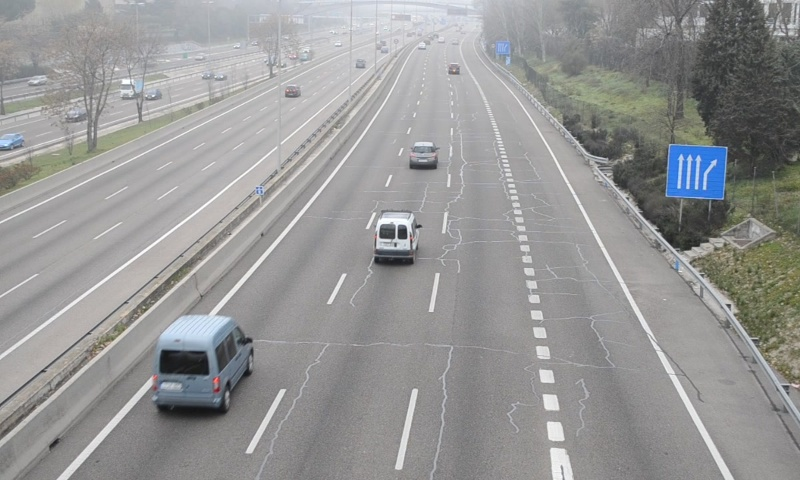car: (408, 141, 437, 167)
van: (154, 317, 254, 410), (374, 212, 418, 261)
